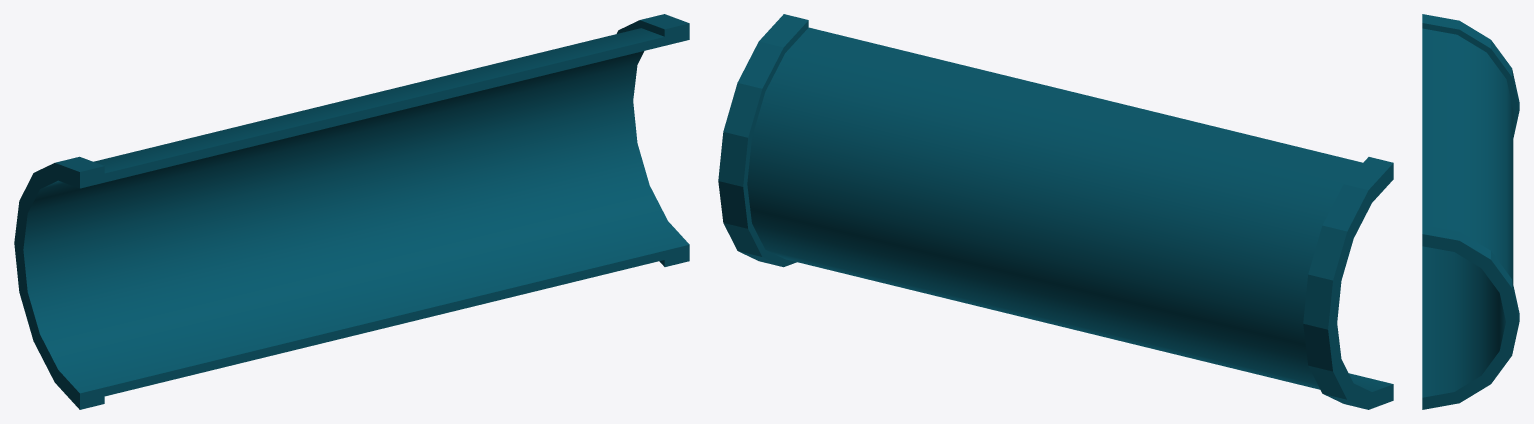
Rendered from Modulo3_Blockout.FBX.
3 renders of one model, left to right at view 1: azimuth 30°, elevation 25°; view 2: azimuth 150°, elevation 25°; view 3: azimuth 270°, elevation 25°, orthographic. The views are drawn at different scales.
Visible parts, largest first — view 1: Tubo_Modulo3; view 2: Tubo_Modulo3; view 3: Tubo_Modulo3.
Boxes of the visible parts, x1,y1,x2,y2 form: Tubo_Modulo3: (14,14,689,409); Tubo_Modulo3: (718,14,1393,409); Tubo_Modulo3: (1422,14,1519,409).
Size of the model in its own units: 276 by 103 by 51.47.
